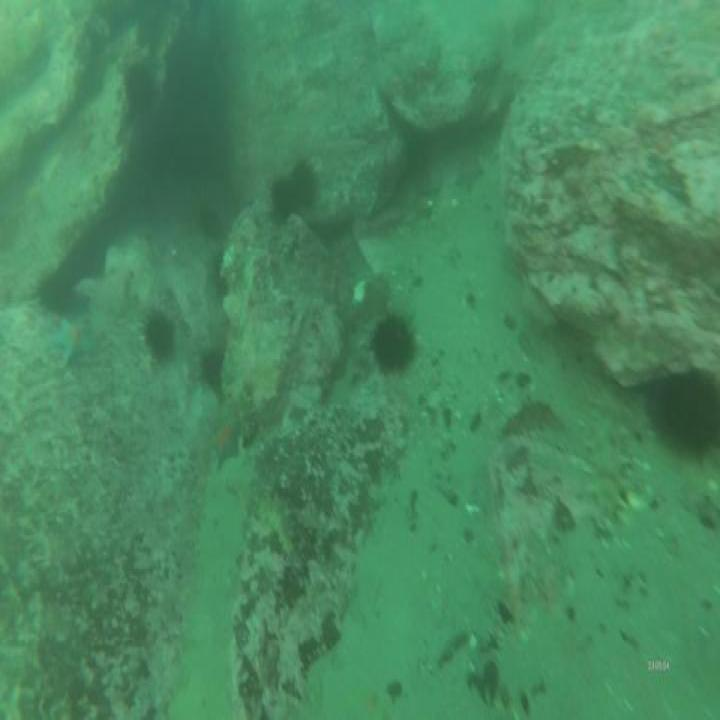echinus: (643, 363, 720, 464), (370, 304, 419, 380), (140, 304, 178, 368), (267, 172, 294, 224), (198, 340, 225, 390), (291, 160, 319, 206)
holothurian: (259, 489, 295, 558)
starfish: (51, 311, 99, 372), (209, 416, 244, 471), (453, 142, 485, 196)
